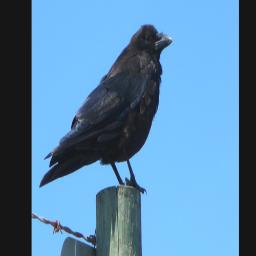Crow: (38, 22, 174, 196)
